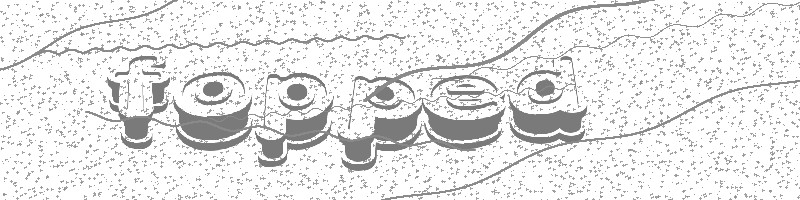d: (506, 53, 588, 146)
e: (423, 73, 506, 153)
f: (103, 49, 171, 152)
o: (173, 72, 253, 148)
p: (334, 72, 423, 173), (253, 67, 334, 171)
